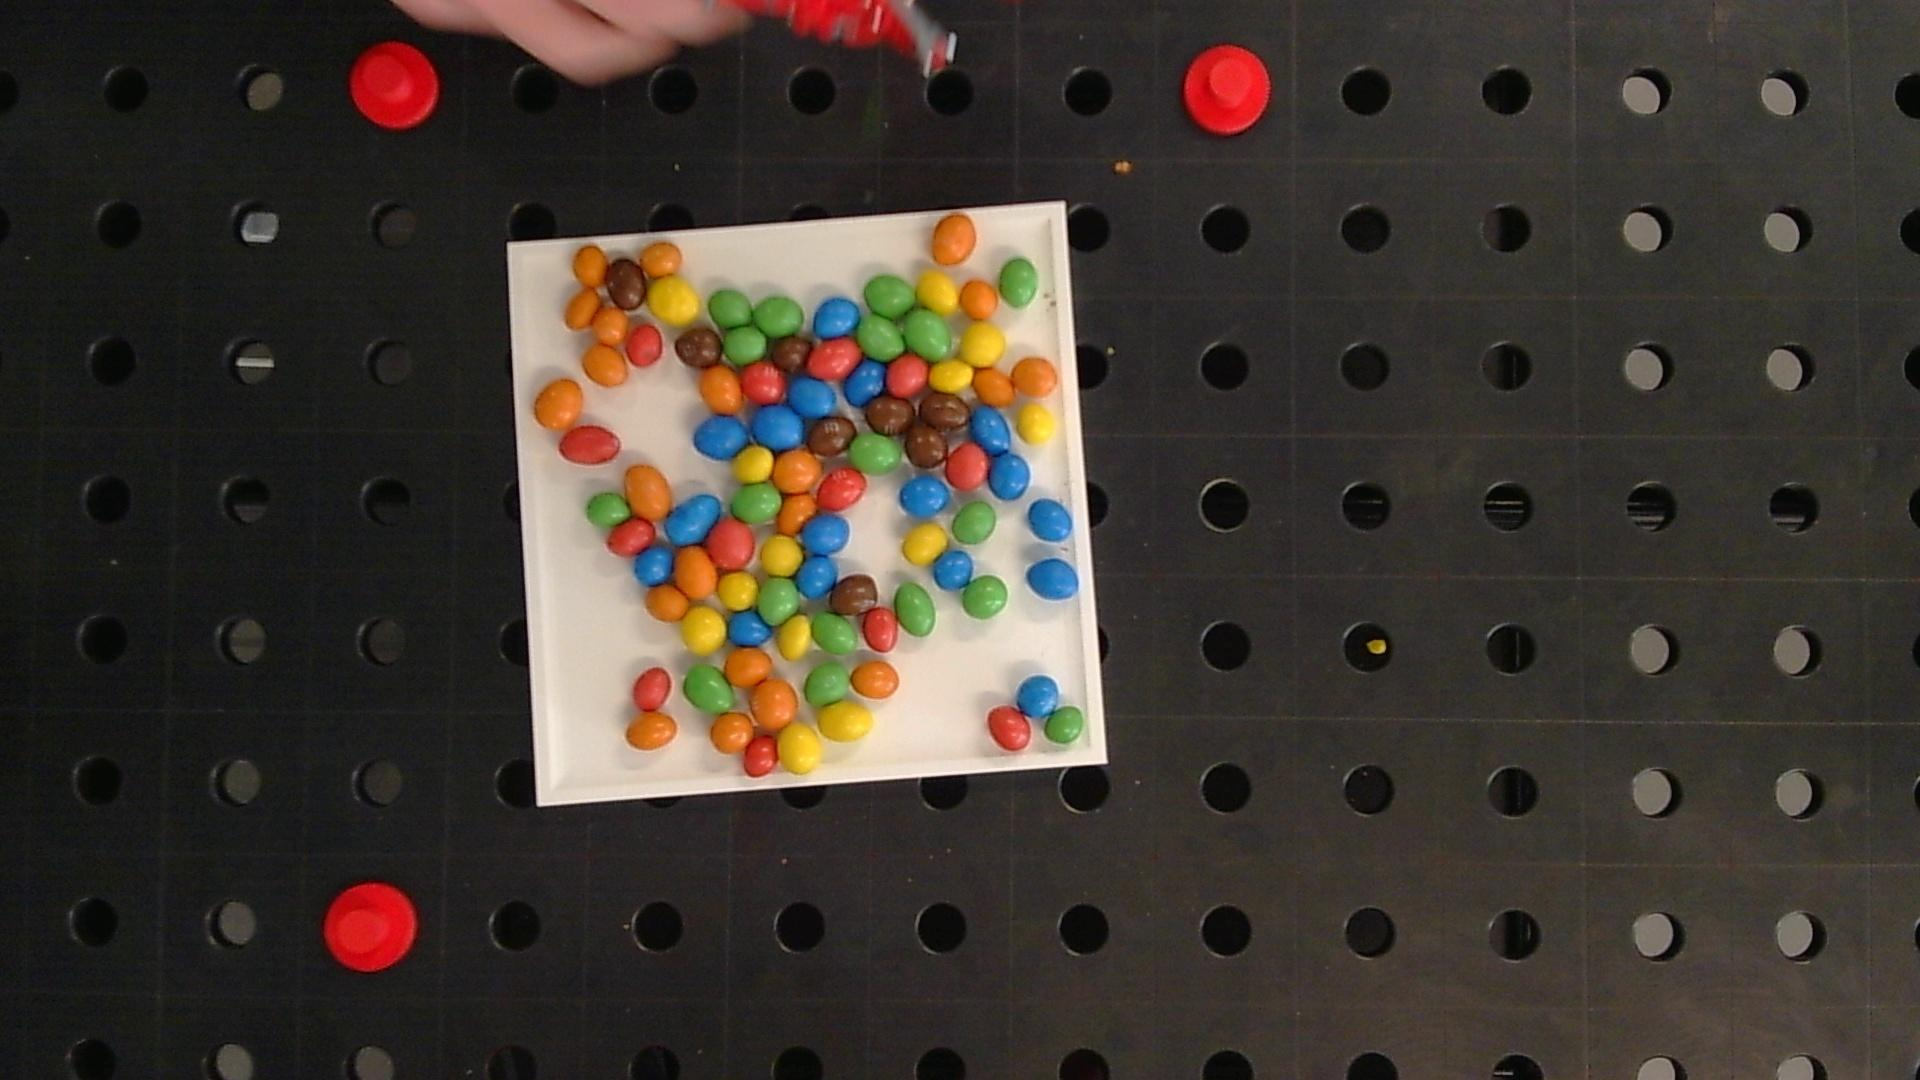blue: (666, 493, 721, 543), (694, 415, 749, 459), (752, 405, 803, 447), (1027, 559, 1079, 600), (901, 475, 949, 516), (1029, 498, 1072, 542), (989, 452, 1030, 498), (803, 513, 849, 554), (971, 406, 1010, 454), (789, 377, 835, 417), (1017, 675, 1060, 716), (814, 299, 860, 336), (844, 361, 885, 402), (798, 555, 837, 597), (728, 609, 771, 646), (634, 547, 674, 585), (934, 551, 973, 589)
brown: (607, 258, 646, 309), (865, 396, 914, 435), (832, 575, 878, 615), (906, 422, 945, 468), (920, 394, 969, 431), (675, 330, 721, 367), (808, 421, 857, 455), (770, 336, 811, 371)
green: (855, 315, 907, 360), (905, 310, 952, 359), (894, 583, 936, 637), (864, 276, 916, 318), (683, 666, 732, 711), (849, 433, 902, 473), (961, 576, 1009, 618), (754, 295, 803, 336), (732, 484, 782, 524), (952, 501, 997, 545), (758, 578, 800, 624), (998, 258, 1039, 306), (812, 612, 857, 654), (804, 663, 851, 704), (723, 326, 766, 364), (1043, 707, 1085, 745), (708, 289, 752, 326), (585, 492, 630, 527)
orange: (625, 464, 671, 520), (534, 378, 582, 429), (750, 680, 798, 729), (932, 214, 976, 264), (675, 547, 716, 597), (700, 367, 742, 413), (1011, 356, 1059, 397), (625, 713, 678, 749), (774, 450, 819, 491), (851, 661, 899, 698), (583, 345, 628, 385), (711, 712, 754, 752), (725, 649, 770, 687), (973, 368, 1014, 406), (646, 585, 690, 621), (960, 280, 998, 319), (564, 289, 601, 328), (572, 245, 608, 285), (779, 495, 816, 531), (641, 243, 682, 276), (592, 307, 628, 343)
red: (559, 426, 621, 464), (707, 520, 754, 567), (807, 338, 860, 378), (816, 468, 866, 509), (988, 705, 1031, 750), (740, 363, 786, 402), (947, 444, 988, 488), (607, 518, 654, 555), (886, 355, 927, 396), (633, 667, 671, 709), (862, 608, 898, 651), (626, 326, 663, 365), (742, 736, 778, 777)
yellow: (649, 277, 699, 323), (818, 702, 873, 741), (778, 724, 820, 773), (683, 608, 725, 653), (902, 524, 947, 563), (960, 324, 1005, 364), (918, 272, 960, 313), (761, 535, 802, 575), (1018, 404, 1055, 443), (778, 617, 812, 658), (930, 360, 973, 392), (719, 572, 757, 608), (733, 447, 773, 481)
